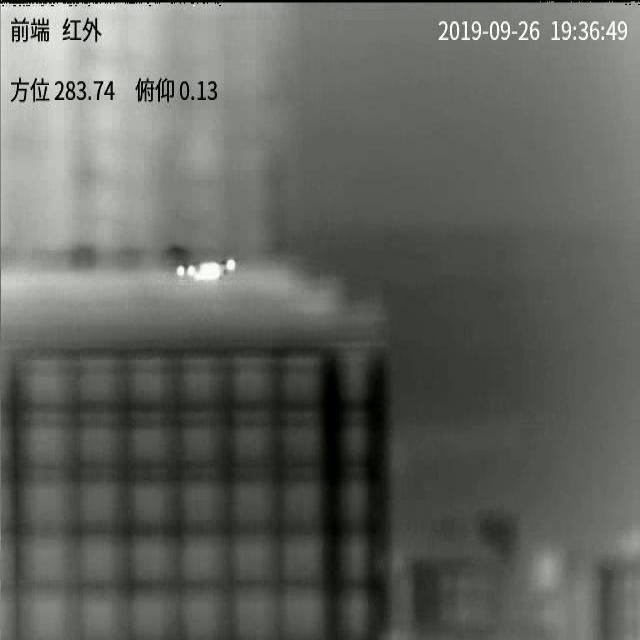drone: (177, 259, 237, 281)
